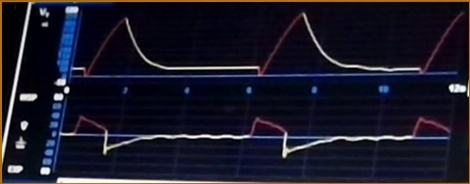Flow: (66, 109, 449, 175)
Leakage Volume: (76, 13, 465, 82)
